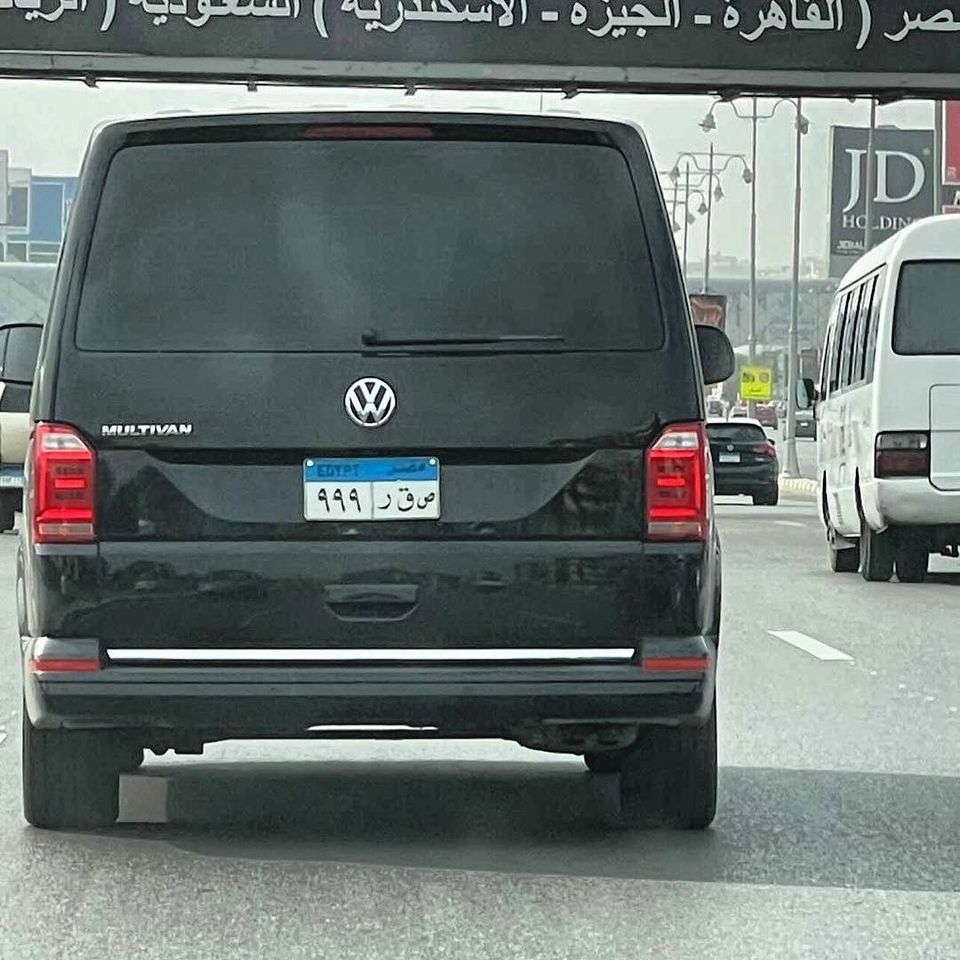carpl: (298, 455, 442, 519)
